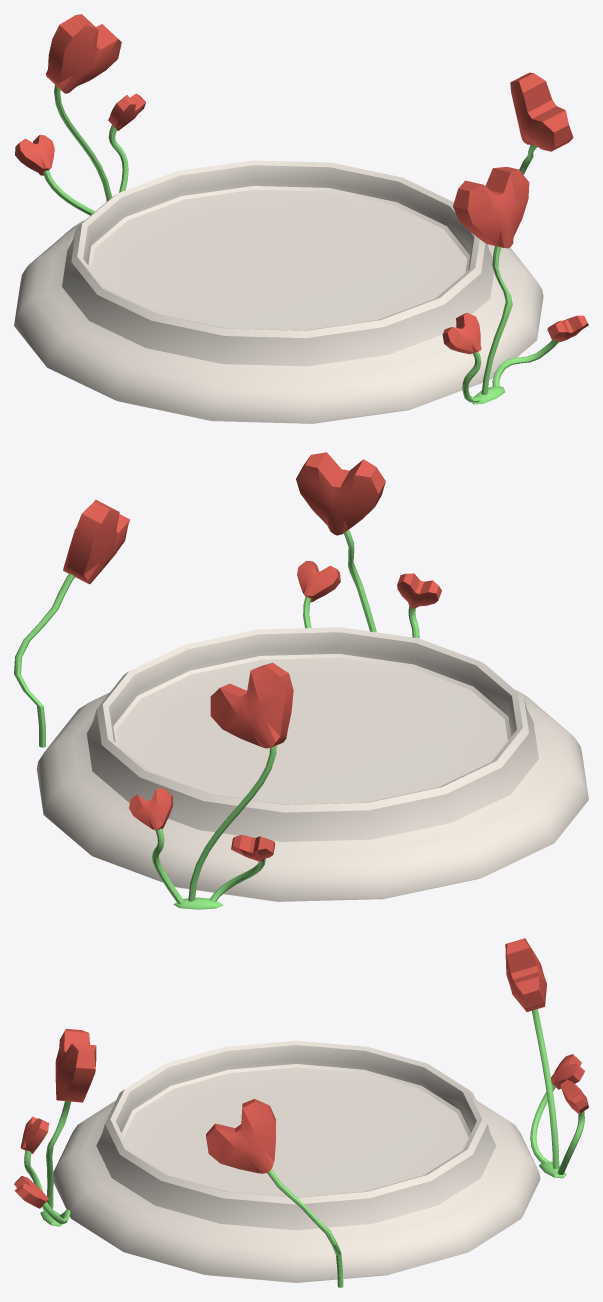
File: heal_Platform002.fbx
3 views of the same model, one above another, from view 1: azimuth 30°, elevation 25°; view 2: azimuth 150°, elevation 25°; view 3: azimuth 270°, elevation 25° (orthographic). The views are drawn at different scales.
Parts seen in each view (by area): view 1: HP.001; view 2: HP.001; view 3: HP.001.
Part boxes in pixels (x1=…): HP.001: x1=14, y1=14, x2=588, y2=423; HP.001: x1=14, y1=452, x2=588, y2=909; HP.001: x1=14, y1=938, x2=588, y2=1287.
Bounding box in the file's own units: 245 × 108 × 267.
